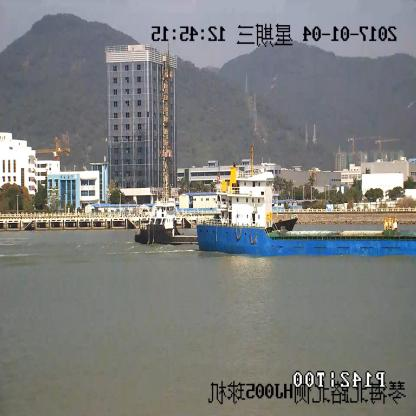Bulk Carrier: (196, 170, 416, 258), (135, 198, 196, 246)
